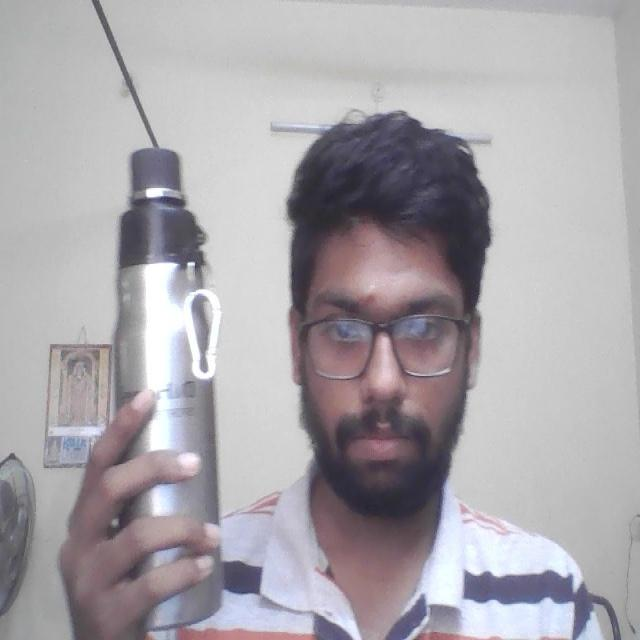Drinking: (104, 144, 233, 637)
